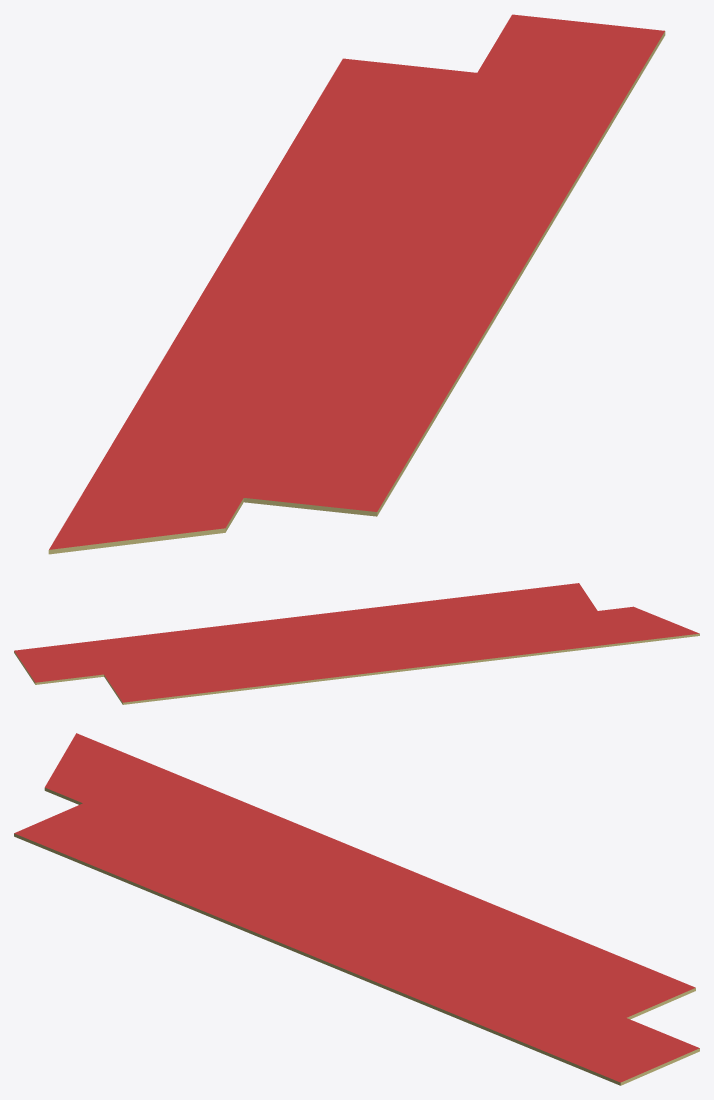
3 renders of one model, top to bottom at view 1: azimuth 30°, elevation 25°; view 2: azimuth 150°, elevation 25°; view 3: azimuth 270°, elevation 25°, orthographic. The views are drawn at different scales.
Visible parts, largest first — view 1: group_3, group_4; view 2: group_3, group_4; view 3: group_3, group_4.
Part boxes in pixels (x1,y1,x2,y2): group_3: (49,14,664,549); group_4: (48,31,665,554); group_3: (14,583,699,702); group_4: (14,633,699,704); group_3: (14,733,699,1082); group_4: (14,788,699,1085).
Bounding box in the file's own units: 22.97 × 19.05 × 0.1.
